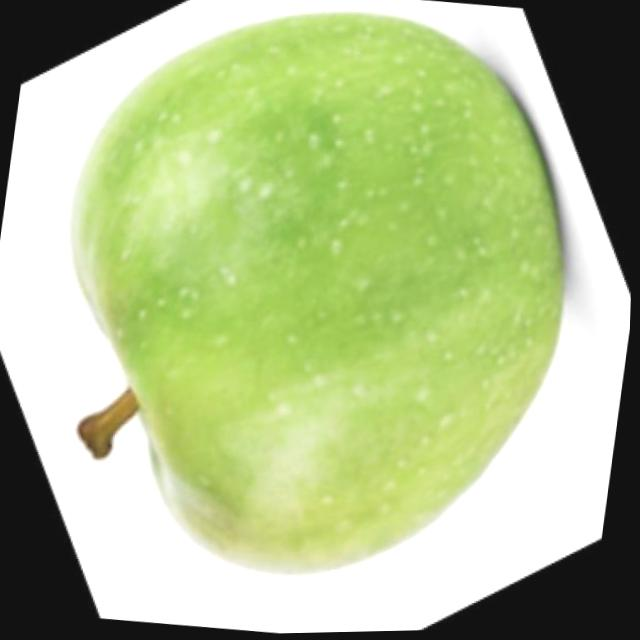Apple: (25, 0, 602, 609)
